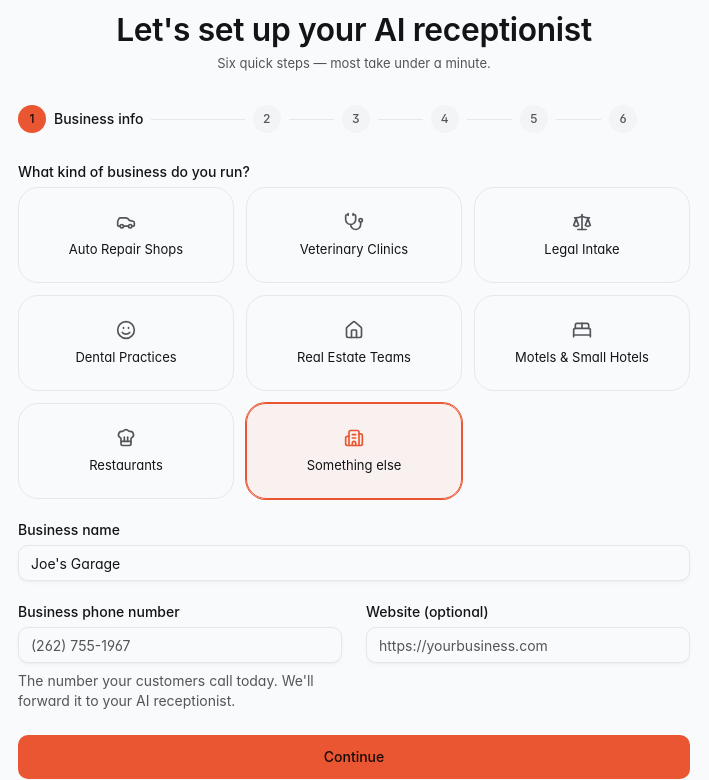
Test: BusinessTypeForm (F-12) › shows a field error and does not submit for an invalid phone or website
Type "755-1967" into the field labelled "Business phone number" at (180, 645), box x1=18 y1=627 x2=342 y2=663
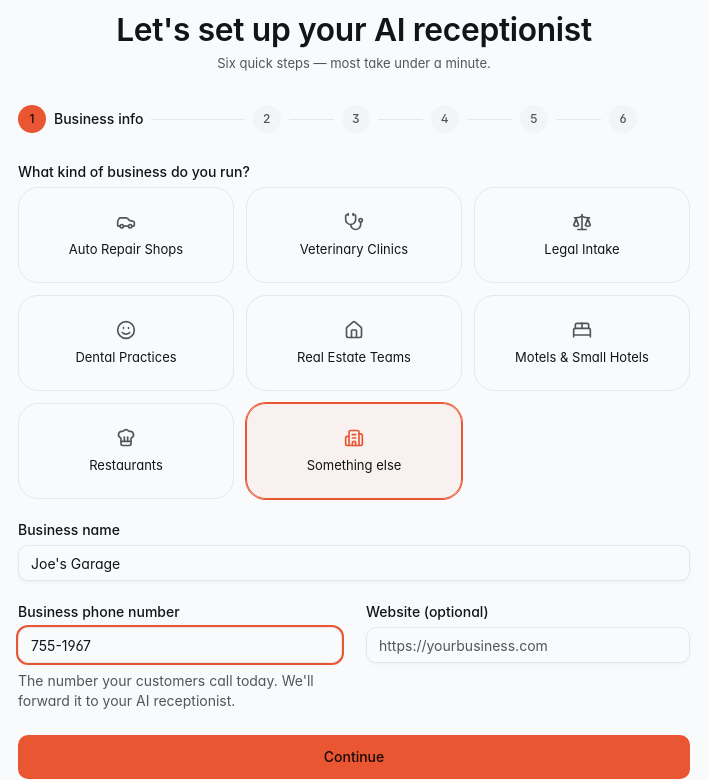
Type "joes garage" into the field labelled "Website (optional)" at (528, 645), box x1=366 y1=627 x2=690 y2=663
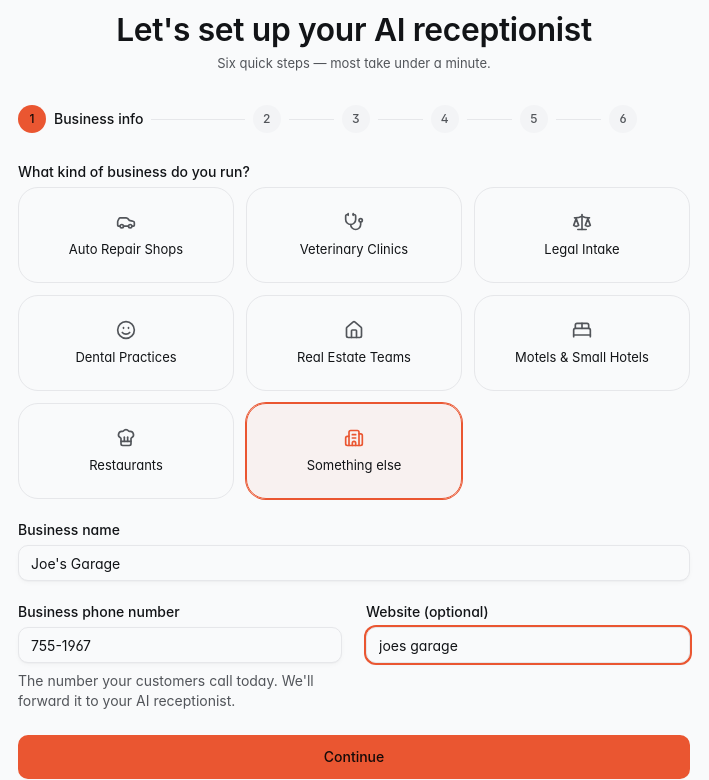
Click the button "Continue" at (354, 757), box x1=18 y1=735 x2=690 y2=779
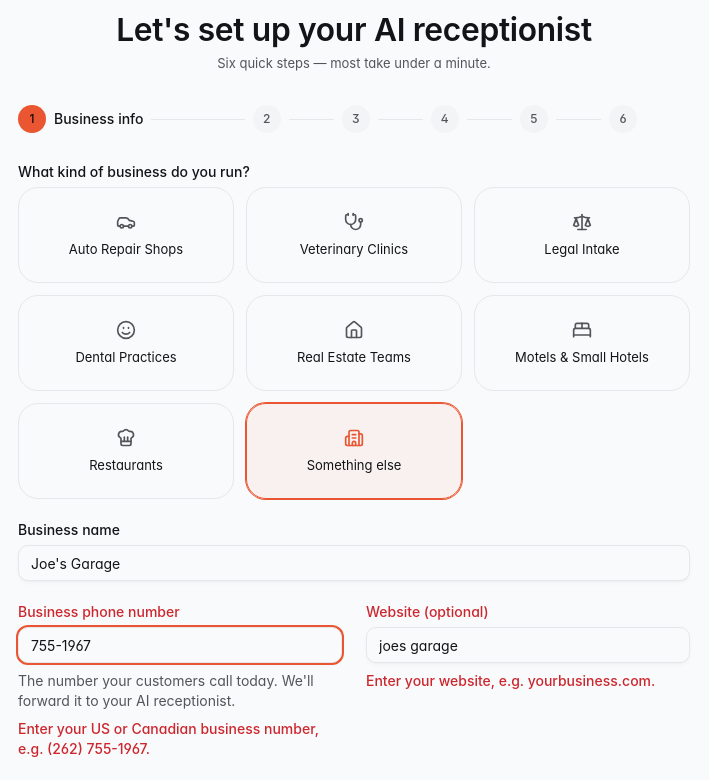
Expected: the text "US or Canadian business number" is shown, x1=18 y1=720 x2=319 y2=757
Expected: the text "Enter your website, e.g. yourbusiness.com." is shown, x1=366 y1=671 x2=690 y2=691
